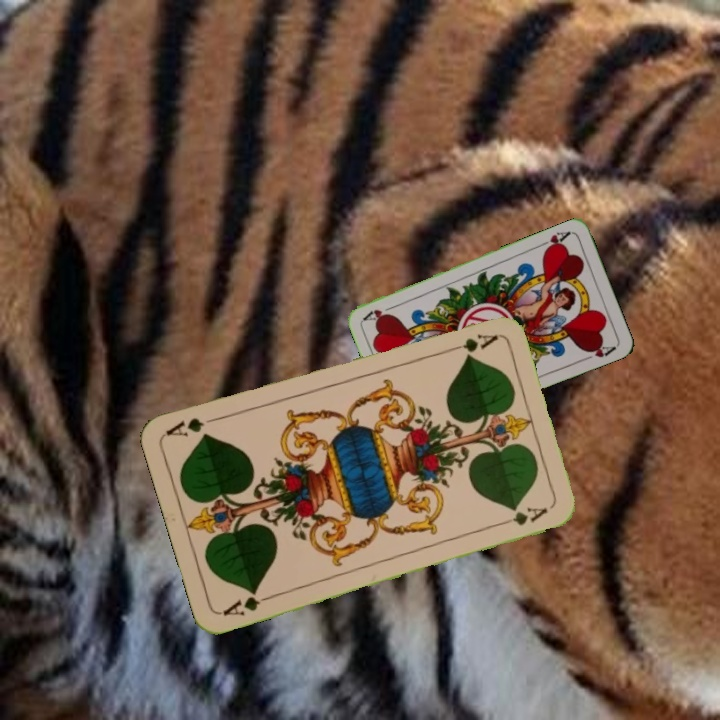GA: (219, 586, 275, 619), (441, 329, 500, 356)
HA: (535, 227, 573, 254)
